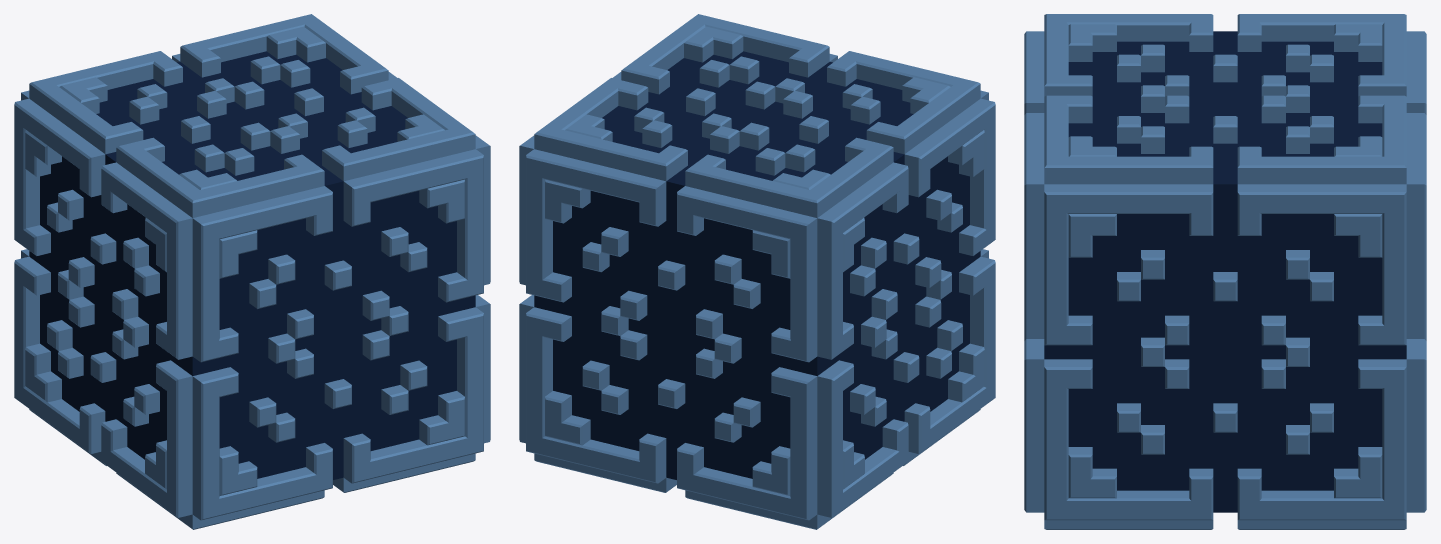
File: Parker_L1_V2 (Box Collider).fbx
3 renders of one model, left to right at view 1: azimuth 30°, elevation 25°; view 2: azimuth 150°, elevation 25°; view 3: azimuth 270°, elevation 25°, orthographic. The views are drawn at different scales.
Visible parts, largest first — view 1: Cube_1, Wall_Side3_107, Wall_Side3_111, Wall_Side3_112, Wall_Side4_108, Wall_Side1_107, Wall_Side3_110, Wall_Side3_108, Wall_Side4_109, Wall_Side1_110, Wall_Side3_105, Wall_Side4_111 (+83 smaller); view 2: Cube_1, Wall_Side5_108, Wall_Side5_112, Wall_Side5_111, Wall_Side4_107, Wall_Side1_108, Wall_Side5_109, Wall_Side5_107, Wall_Side4_110, Wall_Side1_109, Wall_Side5_106, Wall_Side4_112 (+83 smaller); view 3: Cube_1, Wall_Side2_111, Wall_Side2_112, Wall_Side1_106, Wall_Side1_105, Wall_Side2_108, Wall_Side2_107, Wall_Side2_106, Wall_Side2_105, Wall_Side3_108, Wall_Side5_107, Wall_Side2_110 (+75 smaller).
Boxes of the visible parts, x1,y1,x2,y2 form: Cube_1: (29,51,475,479); Wall_Side3_107: (192,372,219,520); Wall_Side3_111: (343,149,483,206); Wall_Side3_112: (192,186,332,242); Wall_Side4_108: (166,368,192,517); Wall_Side1_107: (333,126,475,181); Wall_Side3_110: (192,236,219,362); Wall_Side3_108: (457,307,483,455); Wall_Side4_109: (167,233,192,359); Wall_Side1_110: (200,162,324,213); Wall_Side3_105: (343,436,467,483); Wall_Side4_111: (101,162,192,239); Cube_1: (534,51,980,479); Wall_Side5_108: (790,372,817,520); Wall_Side5_112: (526,149,666,205); Wall_Side5_111: (677,186,817,242); Wall_Side4_107: (817,369,842,517); Wall_Side1_108: (534,126,676,181); Wall_Side5_109: (790,236,817,362); Wall_Side5_107: (526,307,552,455); Wall_Side4_110: (817,233,843,359); Wall_Side1_109: (685,162,809,213); Wall_Side5_106: (542,436,666,483); Wall_Side4_112: (817,162,908,239); Cube_1: (1044,31,1406,512); Wall_Side2_111: (1237,184,1406,213); Wall_Side2_112: (1044,184,1213,213); Wall_Side1_106: (1066,156,1213,184); Wall_Side1_105: (1237,156,1384,184); Wall_Side2_108: (1382,359,1406,520); Wall_Side2_107: (1044,359,1068,520); Wall_Side2_106: (1066,490,1213,520); Wall_Side2_105: (1237,490,1384,520); Wall_Side3_108: (1024,349,1044,512); Wall_Side5_107: (1406,350,1426,512); Wall_Side2_110: (1044,212,1068,345).
Size of the model in its own units: 50.03 by 50.03 by 50.03.
Materials: 1 (1 with a texture image).
